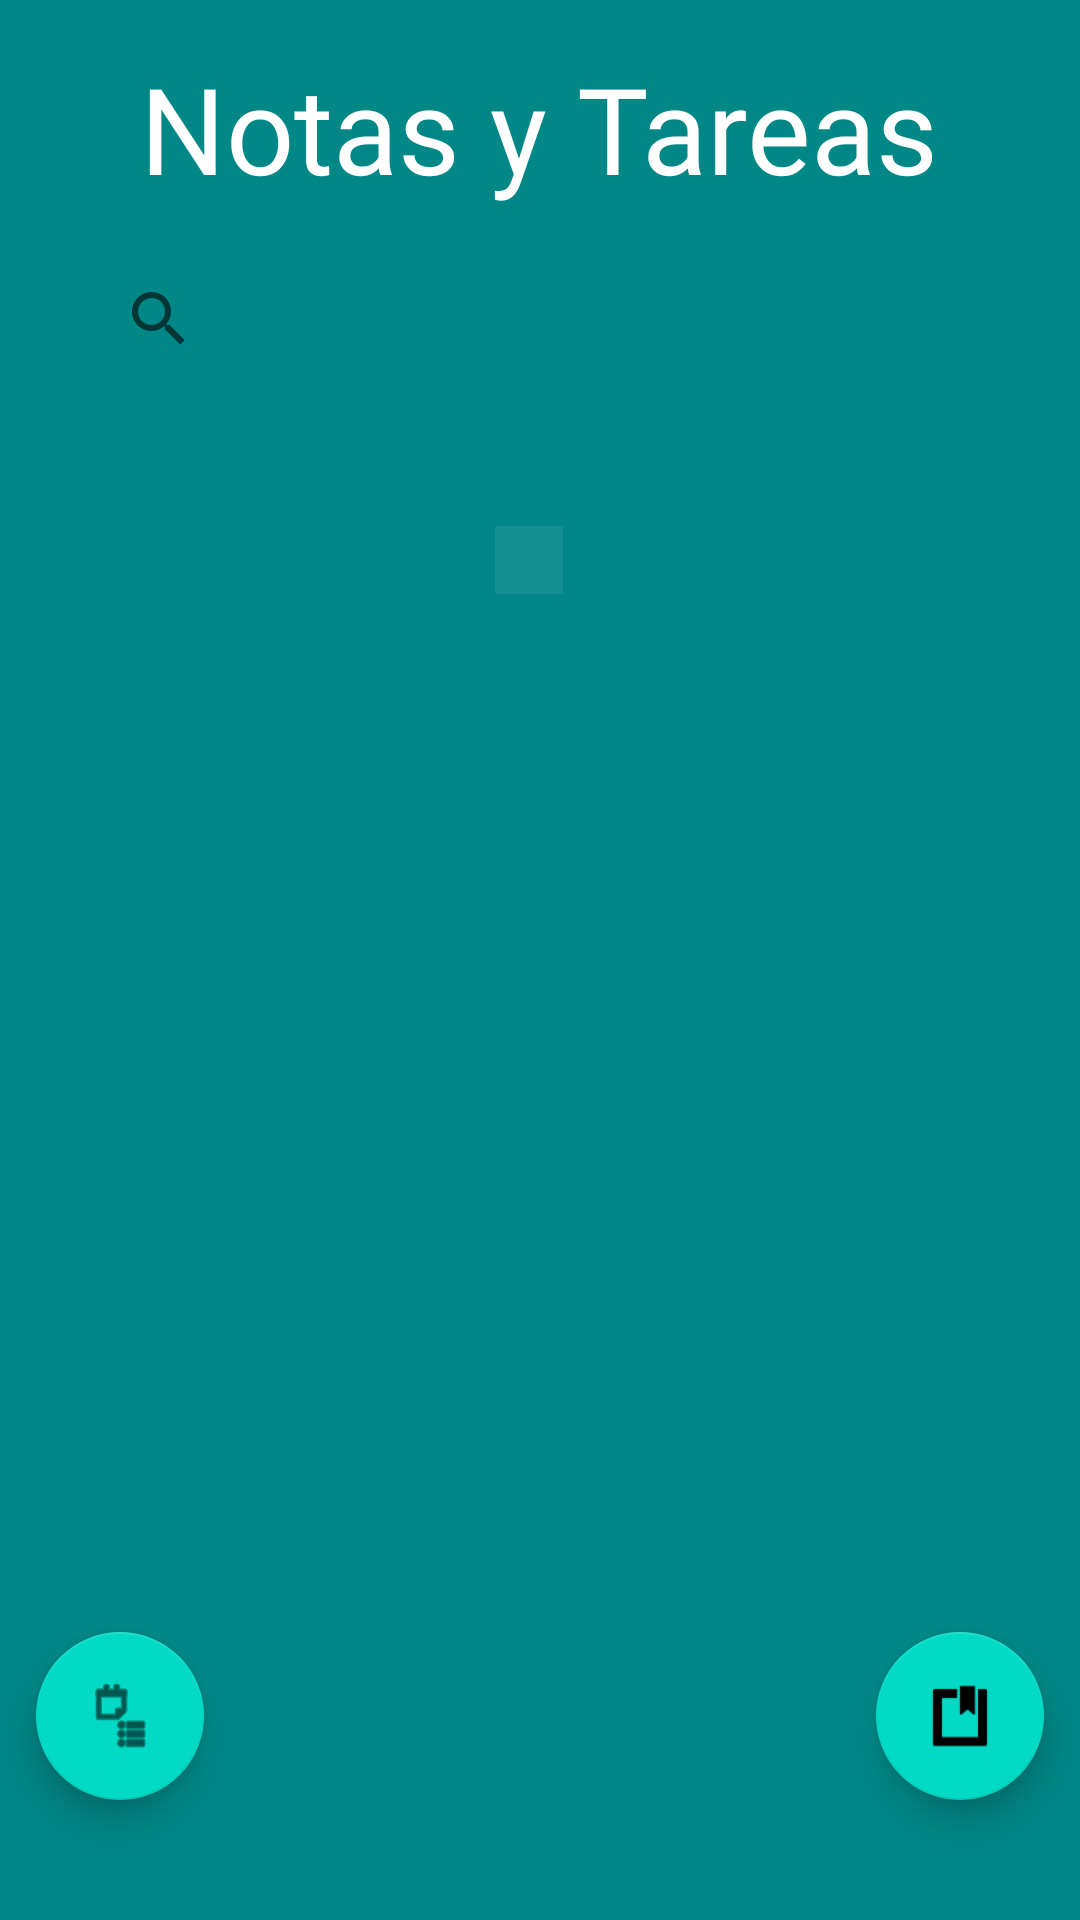

Named icons in this screenshot (1080x1920) and their bounding boxes, (x1, y1, x2, y2):
agenda: (36, 1632, 204, 1800)
